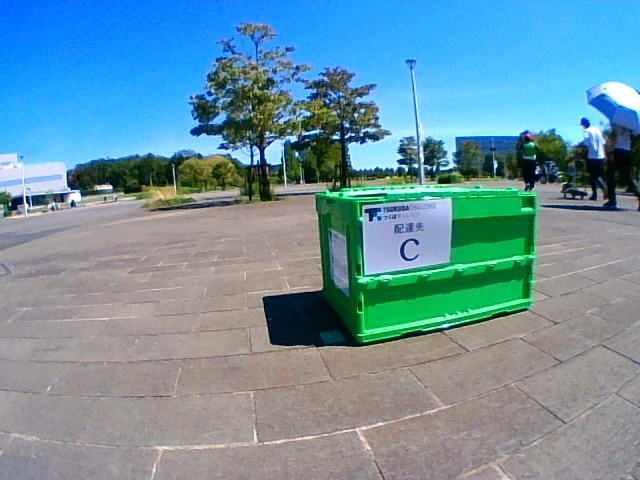green_box: (315, 185, 536, 343)
tag_c: (373, 206, 448, 263)
